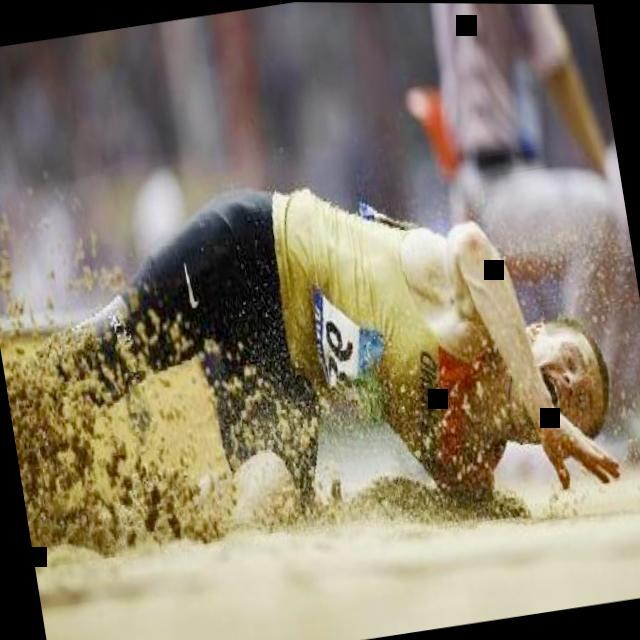Fall-Detected: (0, 97, 640, 591)
